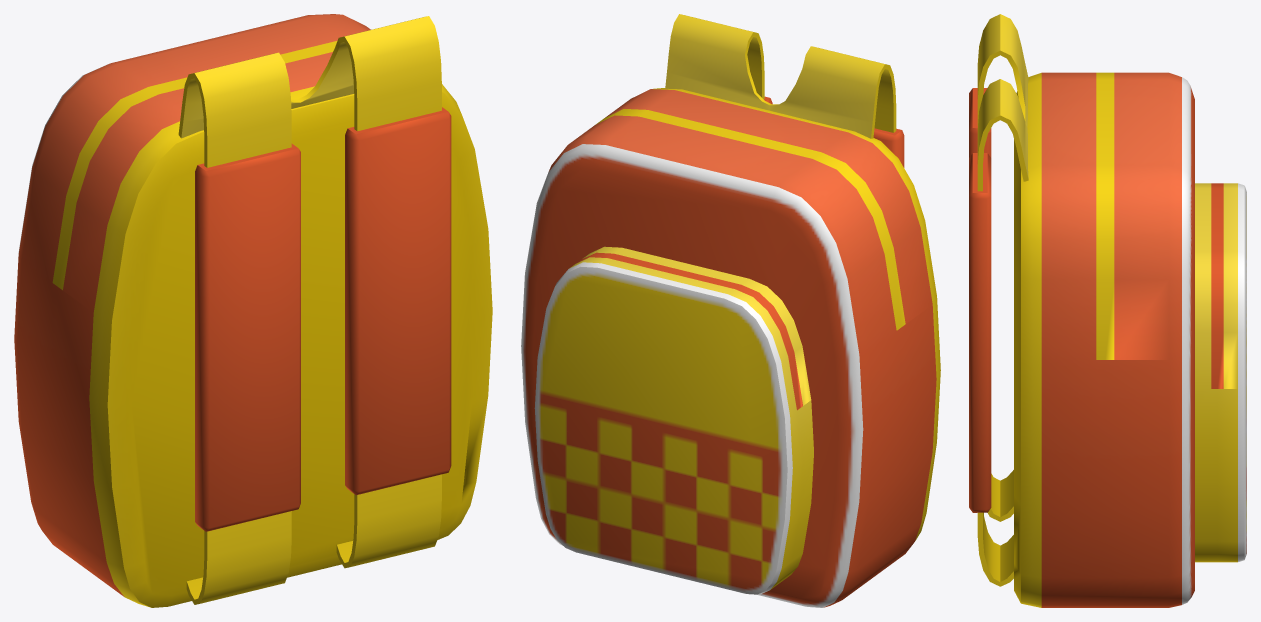
File: ENV2010007.fbx
3 views of the same model, side by side, from view 1: azimuth 30°, elevation 25°; view 2: azimuth 150°, elevation 25°; view 3: azimuth 270°, elevation 25° (orthographic). The views are drawn at different scales.
Visible parts, largest first — view 1: smENV2010007; view 2: smENV2010007; view 3: smENV2010007.
Part boxes in pixels (bbox=[...]): smENV2010007: bbox=[14, 14, 492, 607]; smENV2010007: bbox=[521, 14, 940, 607]; smENV2010007: bbox=[969, 14, 1246, 607].
Bounding box in the file's own units: 20.3 × 26.44 × 13.84.
1 material, 1 textured.
